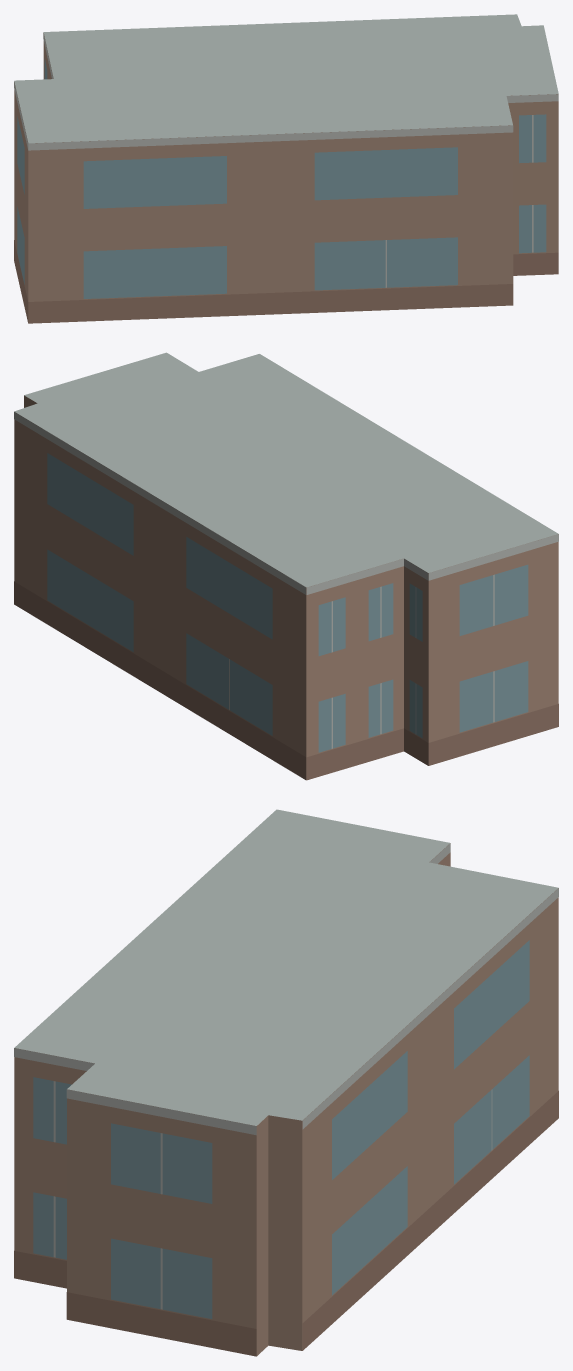
File: survey-upis-33039935.glb
3 views of the same model, one above another, from view 1: azimuth 30°, elevation 25°; view 2: azimuth 150°, elevation 25°; view 3: azimuth 270°, elevation 25° (orthographic). The views are drawn at different scales.
Visible parts, largest first — view 1: survey-upis-33039935.tmp; view 2: survey-upis-33039935.tmp; view 3: survey-upis-33039935.tmp.
Boxes of the visible parts, x1,y1,x2,y2 form: survey-upis-33039935.tmp: (14,14,558,323); survey-upis-33039935.tmp: (14,352,558,780); survey-upis-33039935.tmp: (14,809,558,1356).
Bounding box in the file's own units: 17.99 × 6.1 × 13.08.
